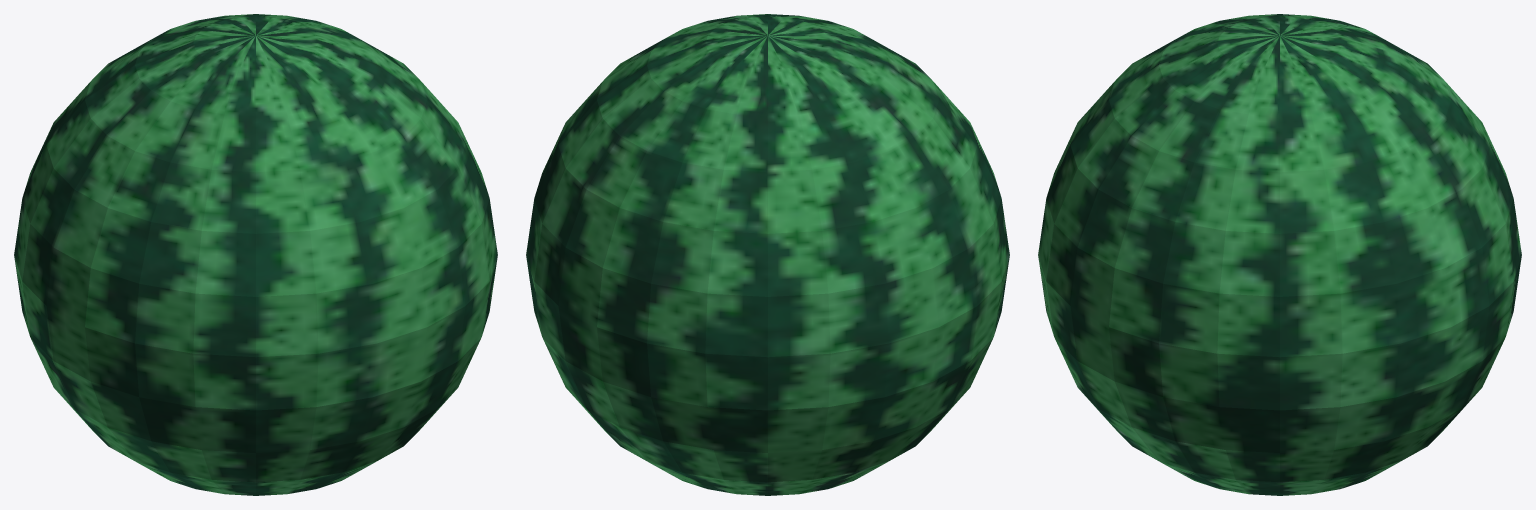
Rendered from melon.obj.
3 renders of one model, left to right at view 1: azimuth 30°, elevation 25°; view 2: azimuth 150°, elevation 25°; view 3: azimuth 270°, elevation 25°, orthographic.
Visible parts, largest first — view 1: Melon; view 2: Melon; view 3: Melon.
Part boxes in pixels (x1,y1,x2,y2): Melon: [14, 14, 497, 495]; Melon: [526, 14, 1009, 495]; Melon: [1038, 14, 1521, 495].
Size of the model in its own units: 1 by 1 by 1.
